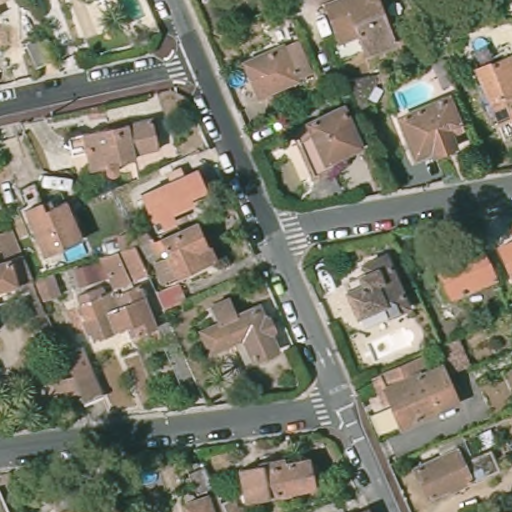pool: (395, 77, 438, 111), (55, 243, 92, 266), (219, 62, 249, 88), (469, 29, 495, 56), (135, 469, 164, 487)
